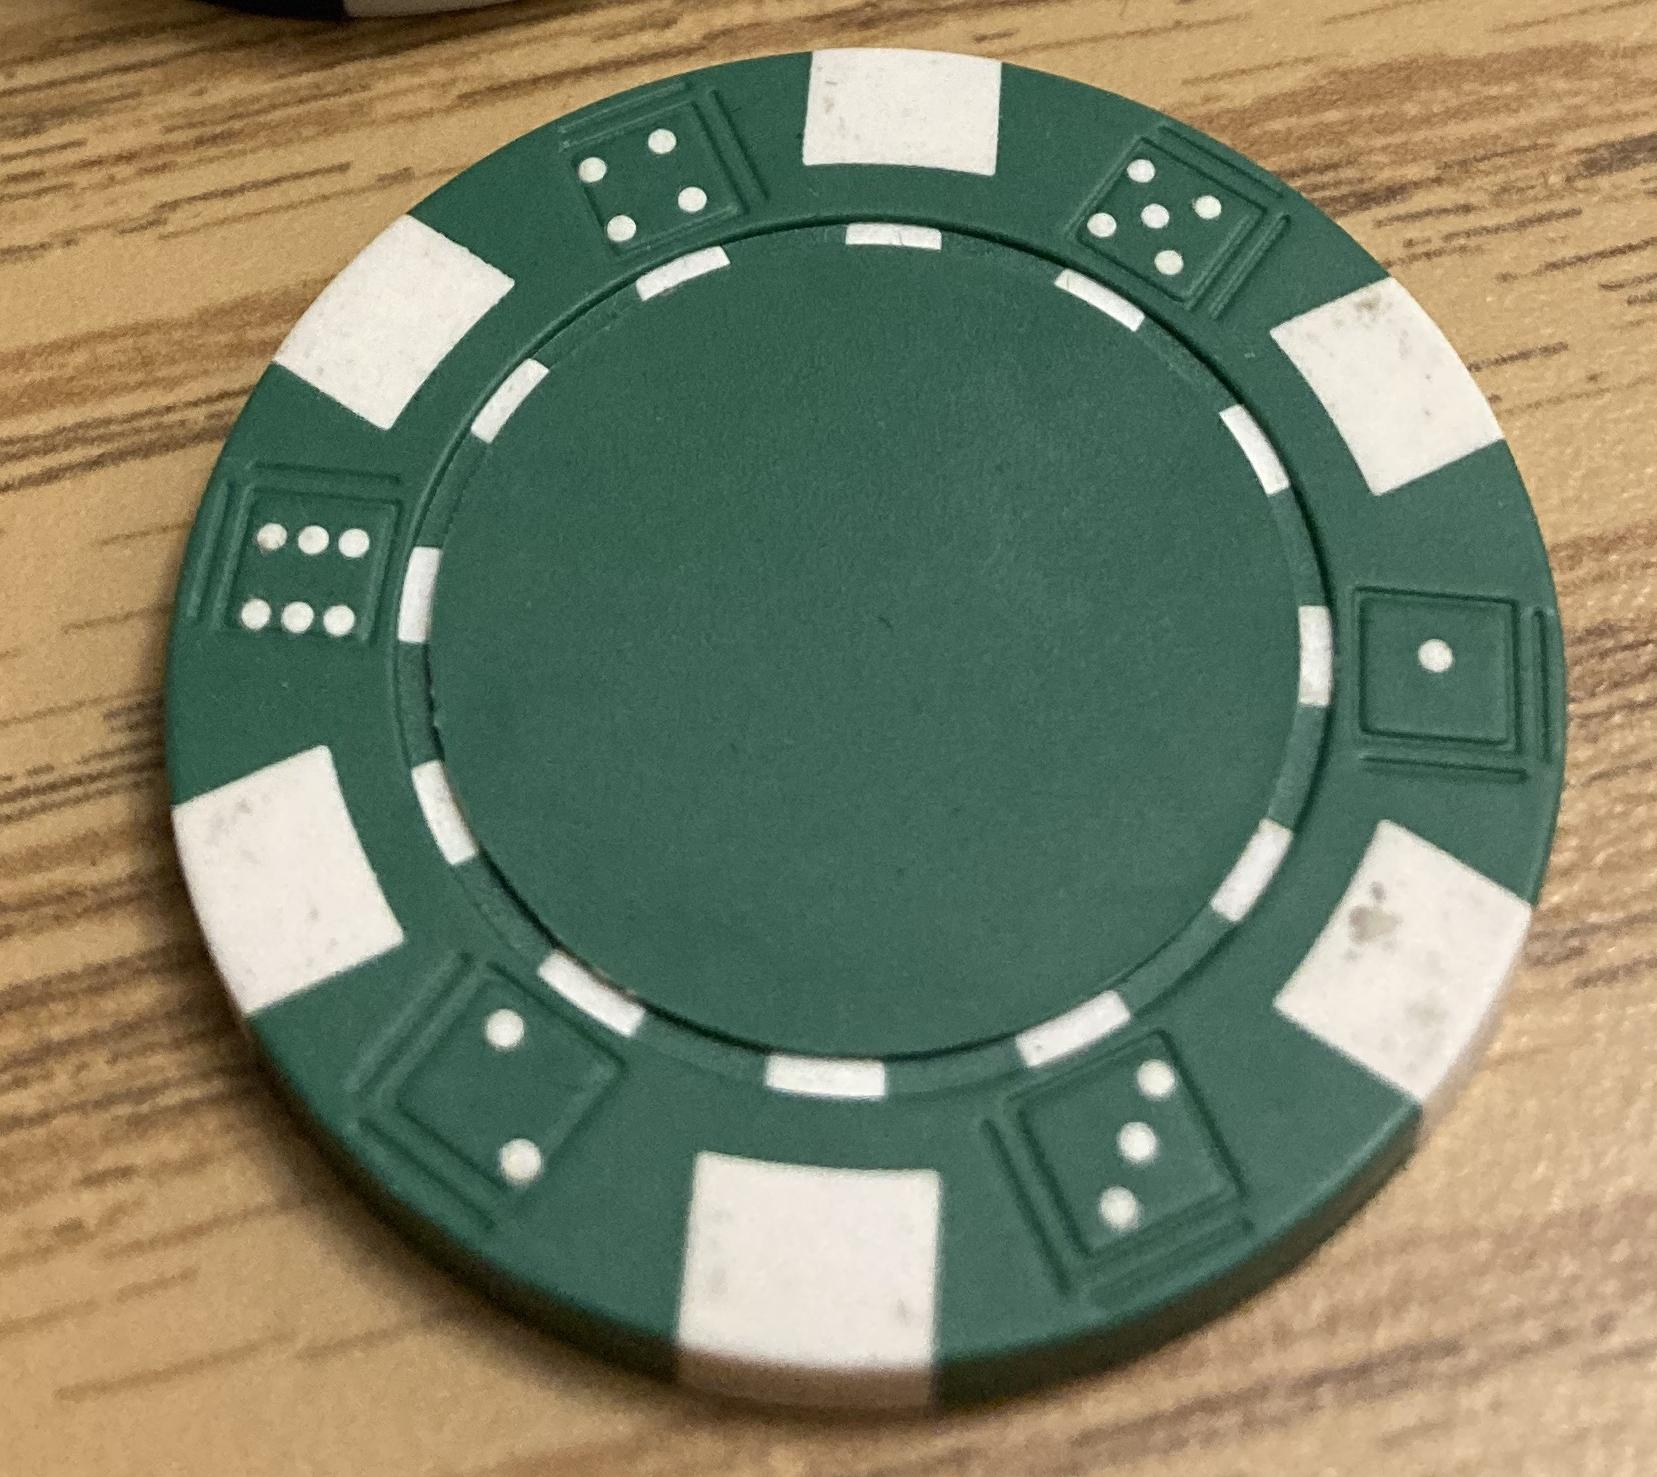Chip: (1, 1, 1657, 1477)
